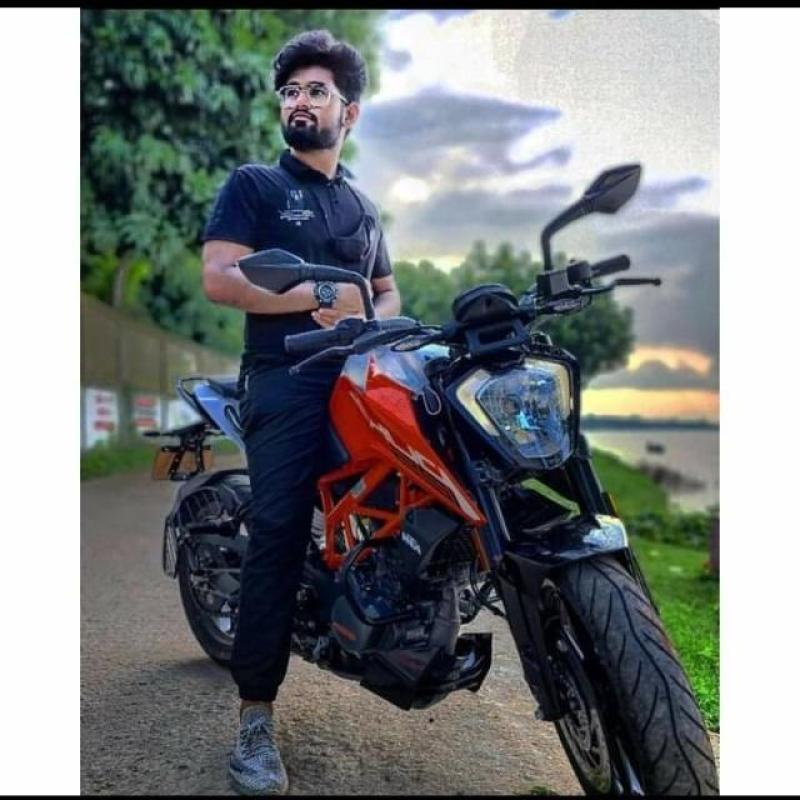nohelmet: (267, 30, 382, 158)
